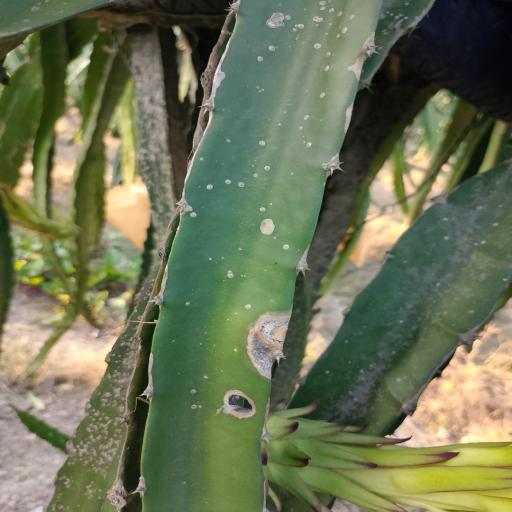stemcanker: (285, 1, 368, 48), (207, 247, 258, 312), (169, 336, 243, 380), (255, 189, 293, 260), (198, 158, 248, 202), (372, 0, 426, 39), (248, 134, 288, 185), (292, 108, 326, 156), (73, 429, 116, 459), (58, 474, 106, 500), (182, 380, 208, 422), (252, 38, 282, 67), (97, 386, 125, 413), (244, 78, 272, 102), (317, 49, 334, 87), (65, 462, 107, 476), (218, 125, 240, 149), (178, 293, 202, 314), (257, 217, 277, 241), (88, 417, 120, 431), (309, 88, 334, 105), (111, 355, 131, 374), (188, 210, 207, 228), (316, 0, 335, 14), (333, 26, 351, 39), (180, 478, 199, 490), (139, 286, 153, 302), (319, 63, 335, 75), (188, 402, 206, 412), (310, 40, 325, 52), (122, 335, 136, 347), (107, 376, 126, 384), (323, 49, 335, 60), (300, 112, 313, 122), (267, 44, 280, 54), (134, 310, 145, 320), (87, 404, 97, 415), (256, 205, 267, 215), (347, 12, 358, 22), (256, 55, 268, 64), (237, 180, 246, 191), (282, 242, 293, 251), (262, 164, 273, 173), (294, 123, 305, 132), (256, 85, 265, 96), (317, 90, 329, 98), (188, 386, 198, 395), (259, 139, 269, 148), (251, 172, 260, 181), (225, 176, 233, 186), (304, 142, 314, 150), (225, 137, 235, 145), (202, 374, 214, 380), (184, 299, 193, 307), (204, 184, 216, 190), (207, 256, 216, 264), (244, 303, 254, 310), (190, 212, 198, 219), (338, 10, 345, 18), (198, 157, 207, 163), (234, 345, 239, 353), (302, 8, 310, 13)
